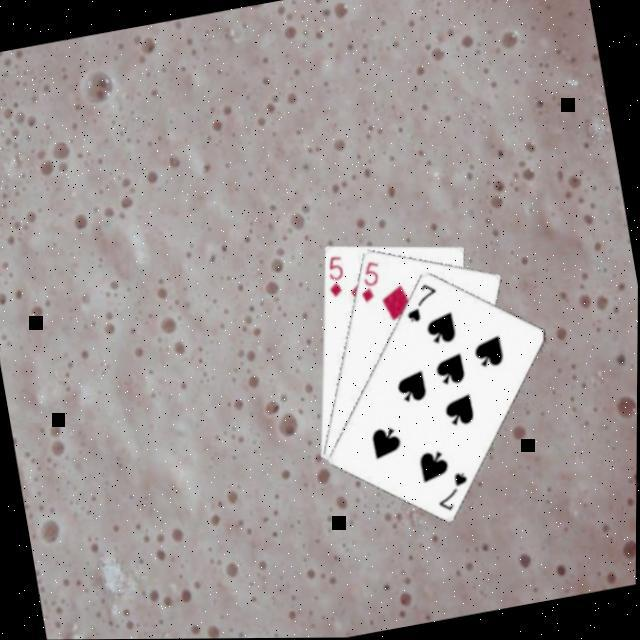5D: (351, 255, 386, 305), (319, 251, 349, 300)
7S: (398, 276, 443, 326), (429, 467, 474, 515)
